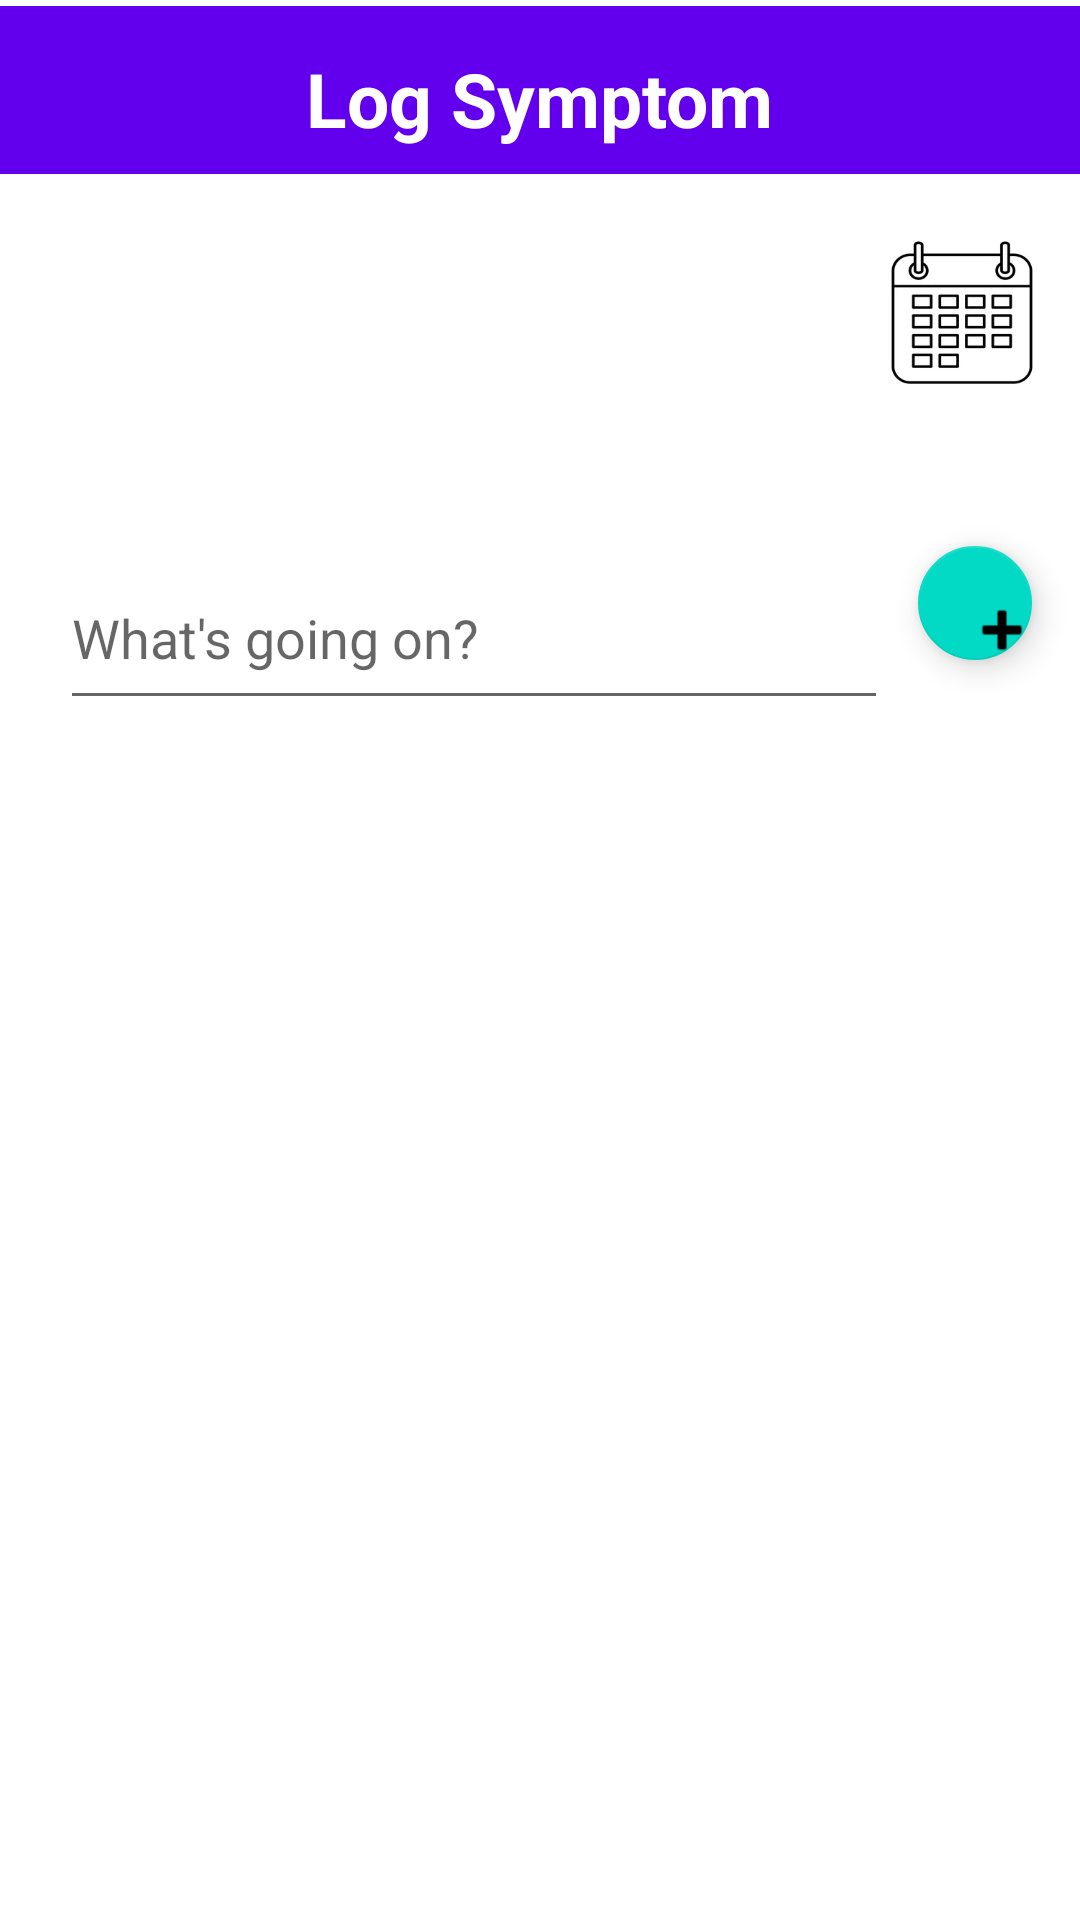

Screen size 1080 × 1920. Icon name, then its box in pixels as (x1,y1,x2,y2):
add: (918,546,1032,660)
calendar: (891,241,1033,384)
